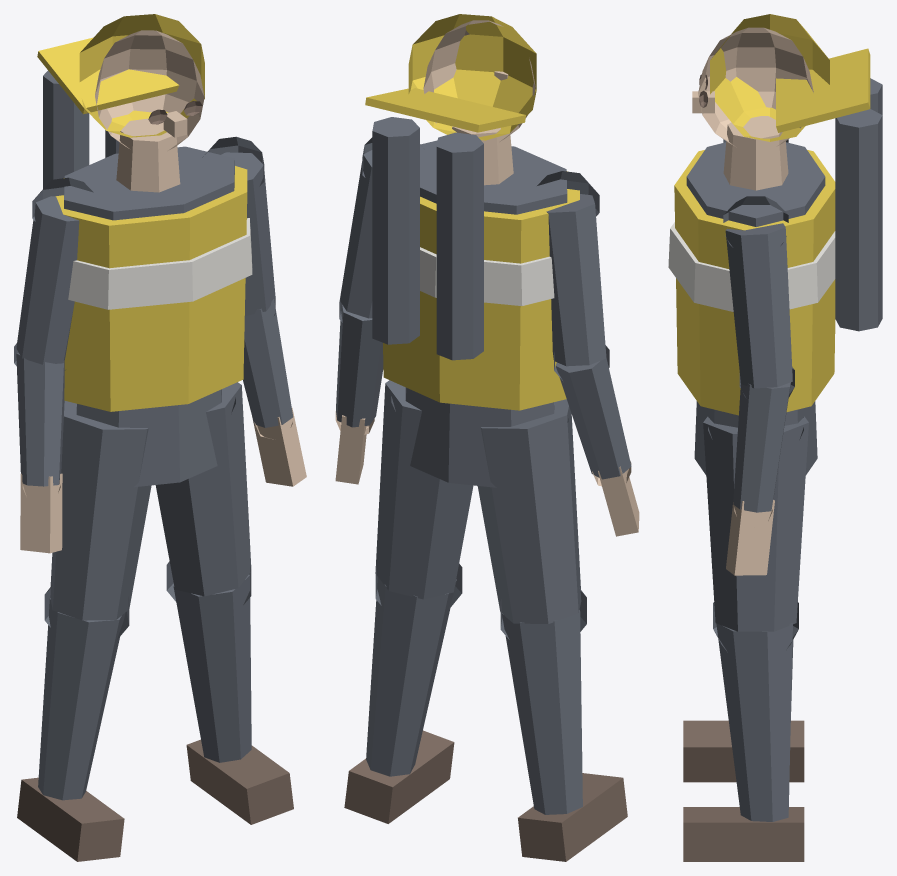
Rendered from low-poly-character-figures-firefighter-standing-8ded7b6f.glb.
3 views of the same model, side by side, from view 1: azimuth 30°, elevation 25°; view 2: azimuth 150°, elevation 25°; view 3: azimuth 270°, elevation 25° (orthographic). The views are drawn at different scales.
Visible parts, largest first — view 1: firefighter-standing; view 2: firefighter-standing; view 3: firefighter-standing.
Part boxes in pixels (box(x1,y1,x2,y2)): firefighter-standing: box(14, 14, 306, 861); firefighter-standing: box(335, 14, 639, 861); firefighter-standing: box(668, 14, 882, 861).
Size of the model in its own units: 0.6976 by 1.82 by 0.4458.
